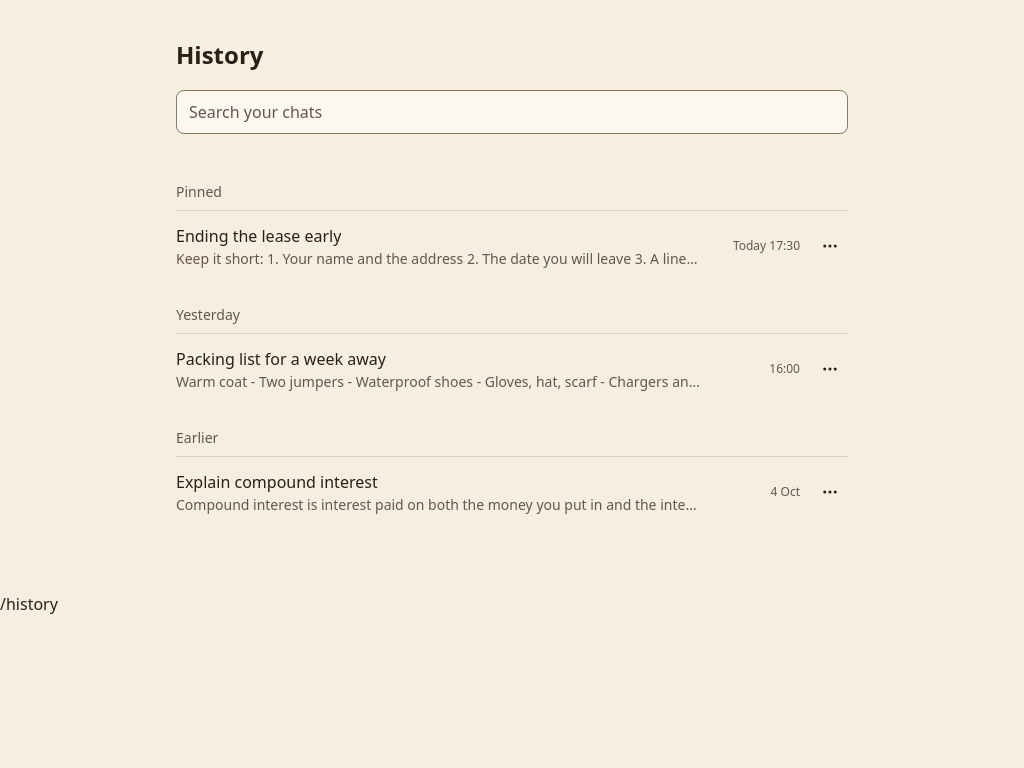
Test: History row actions › rename: Esc cancels and the name stays
This screenshot has width=1024, height=768.
Click the button named "More for Packing list for a week away" at (830, 369), box [812, 351, 848, 387]
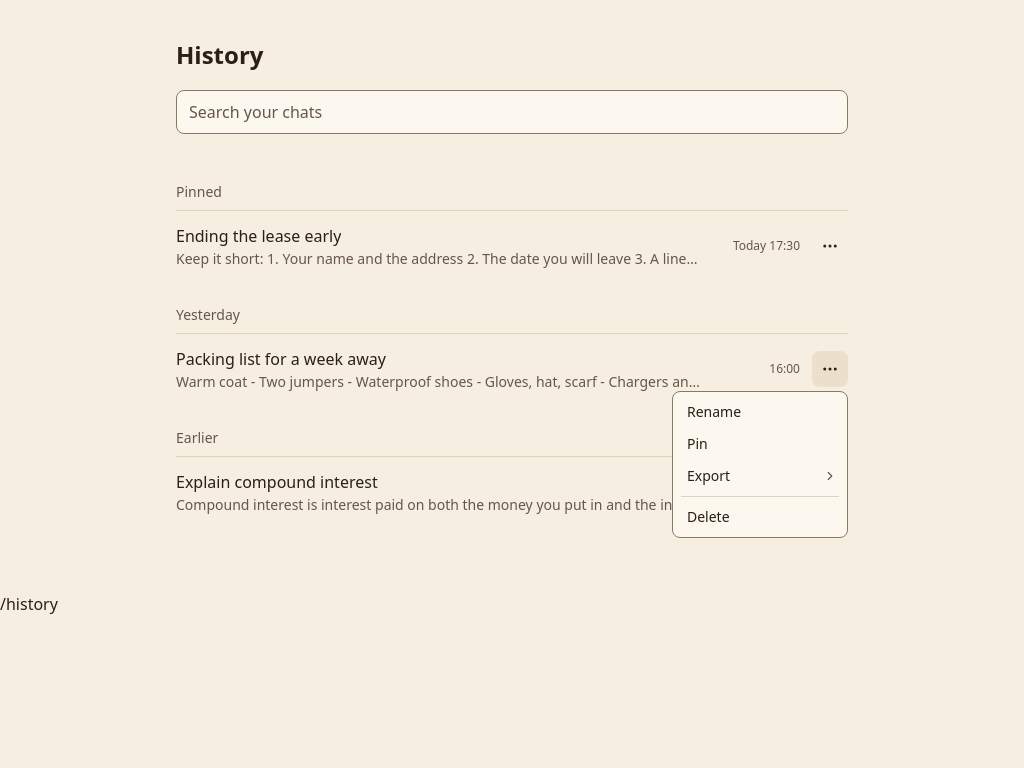
Click the menu item "Rename" at (714, 412), box [687, 402, 741, 421]
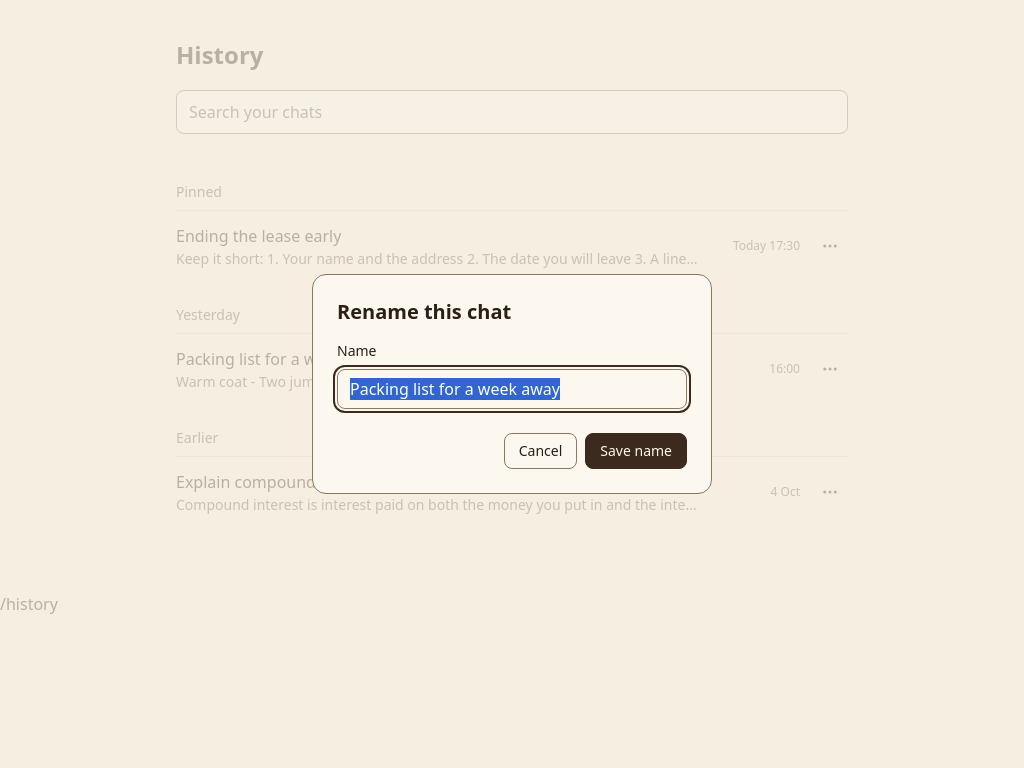
Type " changed" into the field at (512, 389), box [337, 369, 687, 409]
Then press Escape
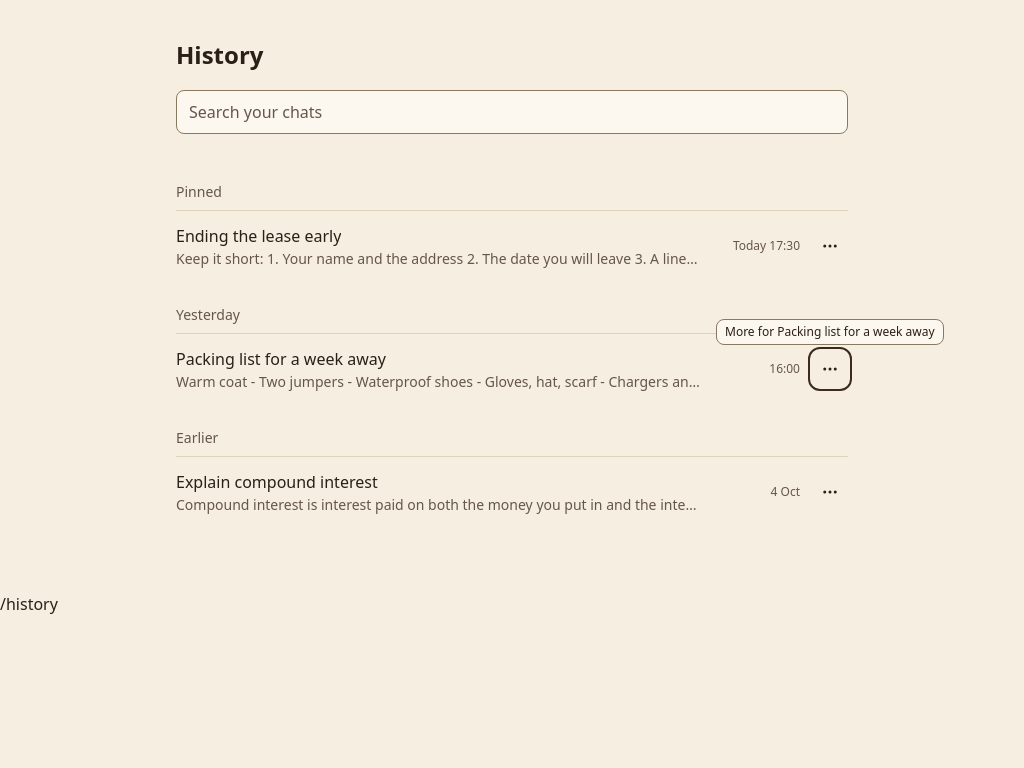
Check: the link "Packing list for a week away" is shown, box [176, 346, 386, 372]
Check: the dialog is gone
